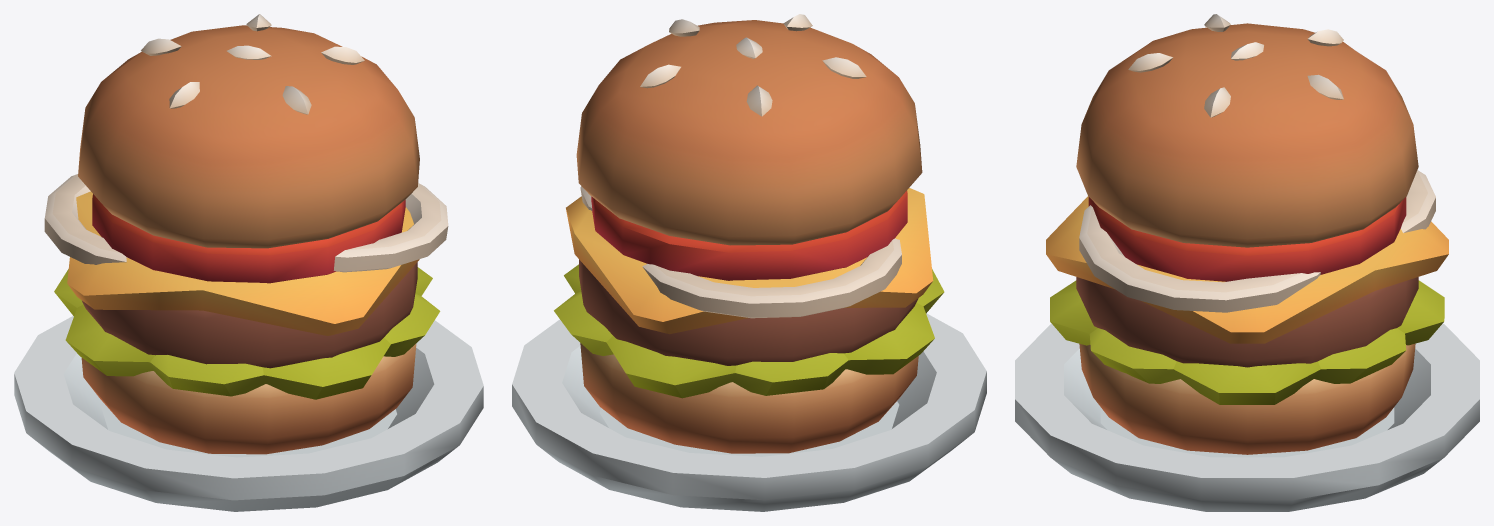
File: burger.glb
The picture shows the model from 3 angles, left to right: view 1: azimuth 30°, elevation 25°; view 2: azimuth 150°, elevation 25°; view 3: azimuth 270°, elevation 25°; orthographic projection.
Parts seen in each view (by area): view 1: food_burger_Cylinder.074; view 2: food_burger_Cylinder.074; view 3: food_burger_Cylinder.074.
Part boxes in pixels (box(x1,y1,x2,y2)): food_burger_Cylinder.074: box(14, 14, 483, 511); food_burger_Cylinder.074: box(512, 14, 986, 511); food_burger_Cylinder.074: box(1015, 14, 1479, 511).
Size of the model in its own units: 0.95 by 0.8572 by 0.95.
1 material, 1 textured.
